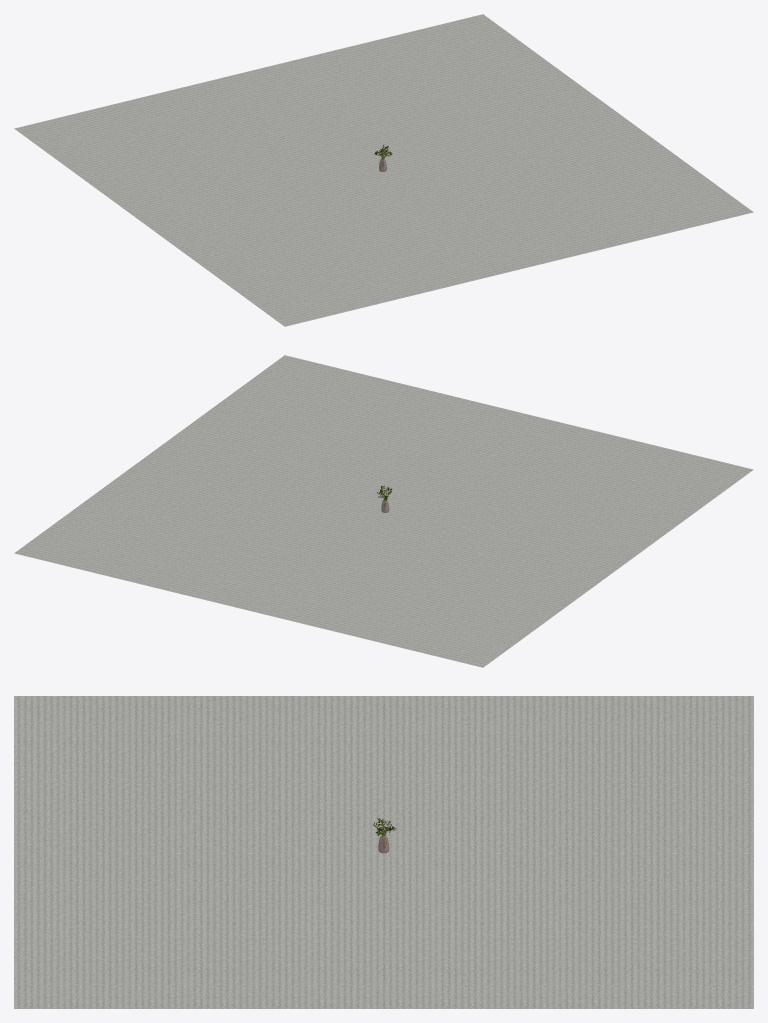
File: Vase6.glb
3 views of the same model, one above another, from view 1: azimuth 30°, elevation 25°; view 2: azimuth 150°, elevation 25°; view 3: azimuth 270°, elevation 25° (orthographic). The views are drawn at different scales.
Visible parts, largest first — view 1: 1019d366-66b0-4d47-b655-625538381898; view 2: 1019d366-66b0-4d47-b655-625538381898; view 3: 1019d366-66b0-4d47-b655-625538381898.
Boxes of the visible parts, x1,y1,x2,y2 form: 1019d366-66b0-4d47-b655-625538381898: (14,14,753,326); 1019d366-66b0-4d47-b655-625538381898: (14,355,753,667); 1019d366-66b0-4d47-b655-625538381898: (14,696,753,1008).
Size of the model in its own units: 4 by 0.1998 by 4.
5 materials, 4 textured.
